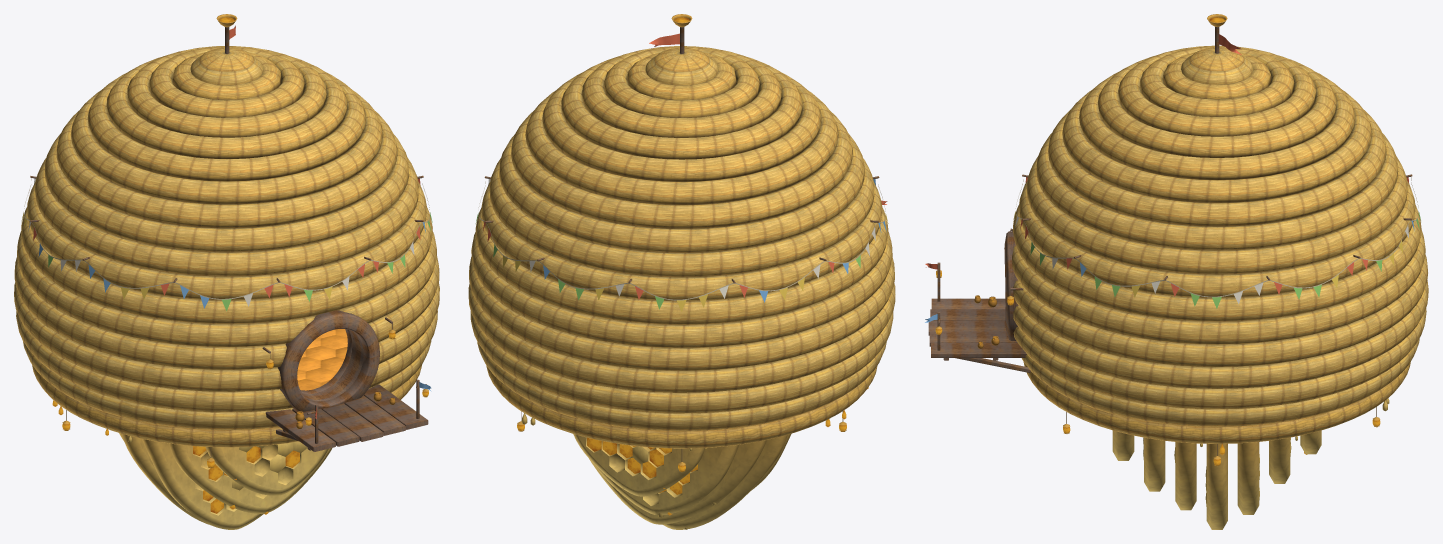
The model's file is hive.glb.
3 renders of one model, left to right at view 1: azimuth 30°, elevation 25°; view 2: azimuth 150°, elevation 25°; view 3: azimuth 270°, elevation 25°, orthographic.
Visible parts, largest first — view 1: Exterior_Mesh, Interior_Mesh; view 2: Exterior_Mesh; view 3: Exterior_Mesh.
Part boxes in pixels (x1,y1,x2,y2): Exterior_Mesh: [14, 14, 439, 529]; Interior_Mesh: [297, 329, 352, 393]; Exterior_Mesh: [468, 14, 895, 529]; Exterior_Mesh: [925, 14, 1428, 529].
Bounding box in the file's own units: 14.21 × 18.73 × 16.94.
8 materials, 8 textured.
